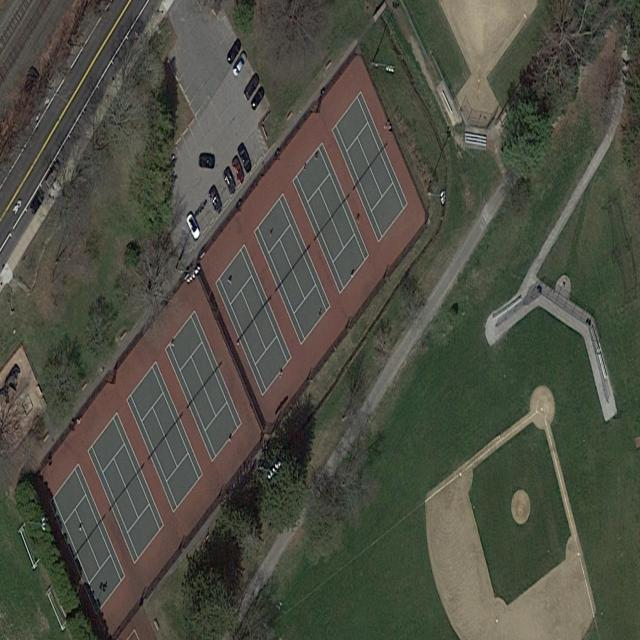small-vehicle: (207, 182, 224, 217), (29, 185, 47, 217), (185, 210, 202, 243), (243, 71, 261, 101), (237, 141, 253, 174), (231, 49, 248, 79), (44, 159, 61, 188), (232, 155, 247, 187), (250, 83, 266, 112), (226, 37, 242, 66), (223, 168, 237, 197), (199, 152, 215, 170)
